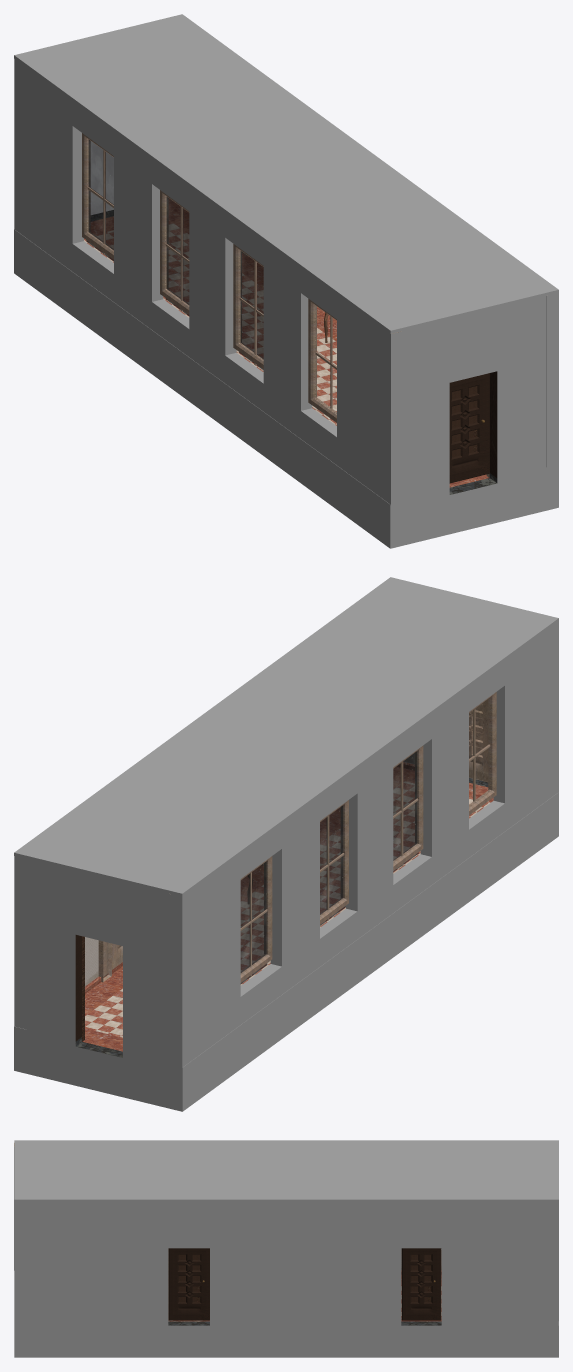
The model's file is Left_corridor.fbx.
The picture shows the model from 3 angles, top to bottom: view 1: azimuth 30°, elevation 25°; view 2: azimuth 150°, elevation 25°; view 3: azimuth 270°, elevation 25°; orthographic projection. The views are drawn at different scales.
Visible parts, largest first — view 1: ceiling, left_wall, long_part_of_corridor, pCube44, pPlane5, right_wall, pPlane2, pPlane4, pCube58, pCube56, pCube47, pCube57; view 2: ceiling, left_wall, long_part_of_corridor, right_wall, pPlane5, pPlane2, pPlane4, pCube45, pCube58, pCube56, pCube47, pCube57; view 3: right_wall, ceiling, long_part_of_corridor, pCube42, pCube41.
Boxes of the visible parts, x1,y1,x2,y2 form: ceiling: (14,14,558,333); left_wall: (14,59,402,505); long_part_of_corridor: (14,198,558,548); pCube44: (449,373,489,483); pPlane5: (86,139,113,261); right_wall: (546,293,558,466); pPlane2: (165,197,189,315); pPlane4: (239,251,263,370); pCube58: (82,133,113,259); pCube56: (233,244,263,368); pCube47: (308,298,336,422); pCube57: (160,190,189,314); ceiling: (14,577,558,896); left_wall: (167,621,558,1067); long_part_of_corridor: (14,753,558,1111); right_wall: (14,856,98,1029); pPlane5: (240,861,267,983); pPlane2: (320,805,345,925); pPlane4: (393,751,418,871); pCube45: (469,699,488,782); pCube58: (240,856,272,982); pCube56: (393,745,423,870); pCube47: (469,692,496,815); pCube57: (320,800,348,924); right_wall: (14,1202,558,1325); ceiling: (14,1140,558,1202); long_part_of_corridor: (14,1202,558,1357); pCube42: (168,1248,209,1320); pCube41: (401,1248,441,1320).
Size of the model in its own units: 21.69 by 26.81 by 83.95.
